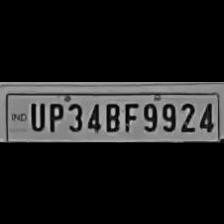2: (177, 98, 195, 132)
3: (65, 100, 83, 132)
4: (84, 100, 102, 132), (196, 99, 214, 131)
9: (139, 99, 157, 131), (160, 99, 176, 131)
B: (103, 100, 121, 132)
F: (121, 100, 137, 132)
P: (45, 98, 63, 132)
U: (27, 99, 46, 131)
